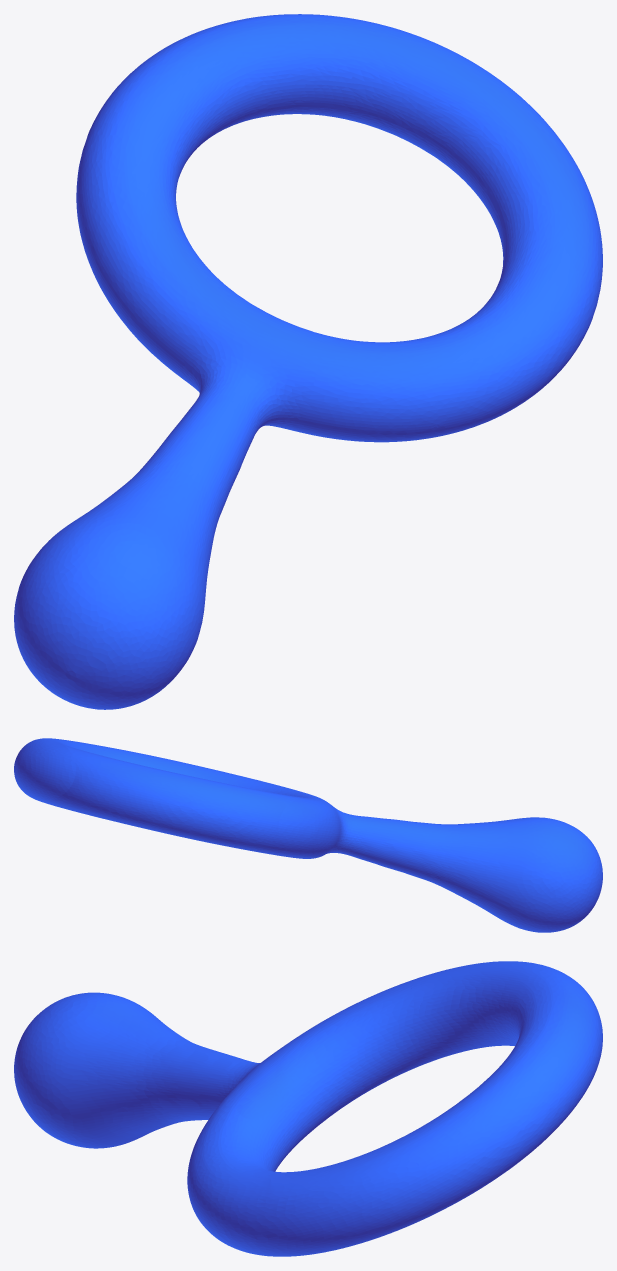
The model's file is Monoclonal antibodies part 2.fbx.
The picture shows the model from 3 angles, top to bottom: view 1: azimuth 30°, elevation 25°; view 2: azimuth 150°, elevation 25°; view 3: azimuth 270°, elevation 25°; orthographic projection. The views are drawn at different scales.
Visible parts, largest first — view 1: Sphere.010; view 2: Sphere.010; view 3: Sphere.010.
Part boxes in pixels (bbox=[...]): Sphere.010: bbox=[14, 14, 602, 709]; Sphere.010: bbox=[14, 738, 602, 932]; Sphere.010: bbox=[14, 961, 602, 1256].
Bounding box in the file's own units: 371 × 180 × 309.
